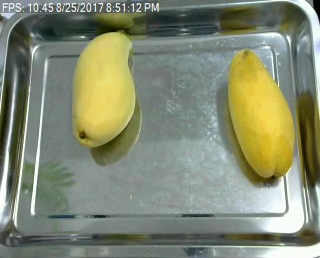Mango: (225, 40, 298, 178), (68, 28, 142, 152)
